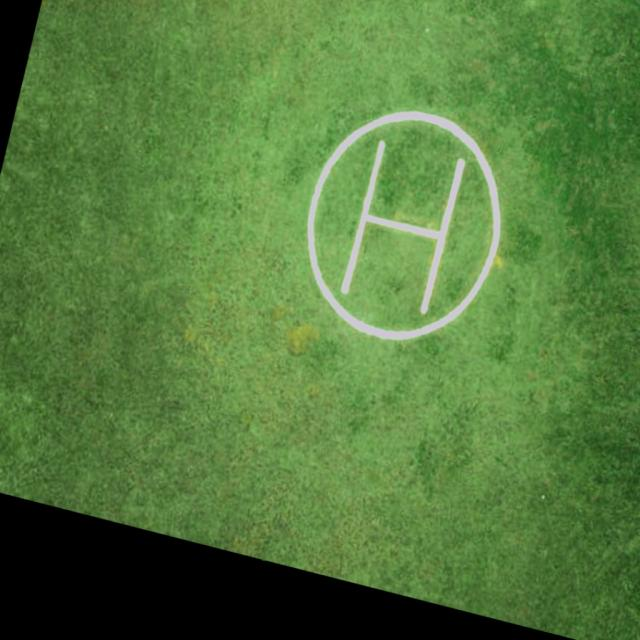helipad: (298, 102, 508, 346)
